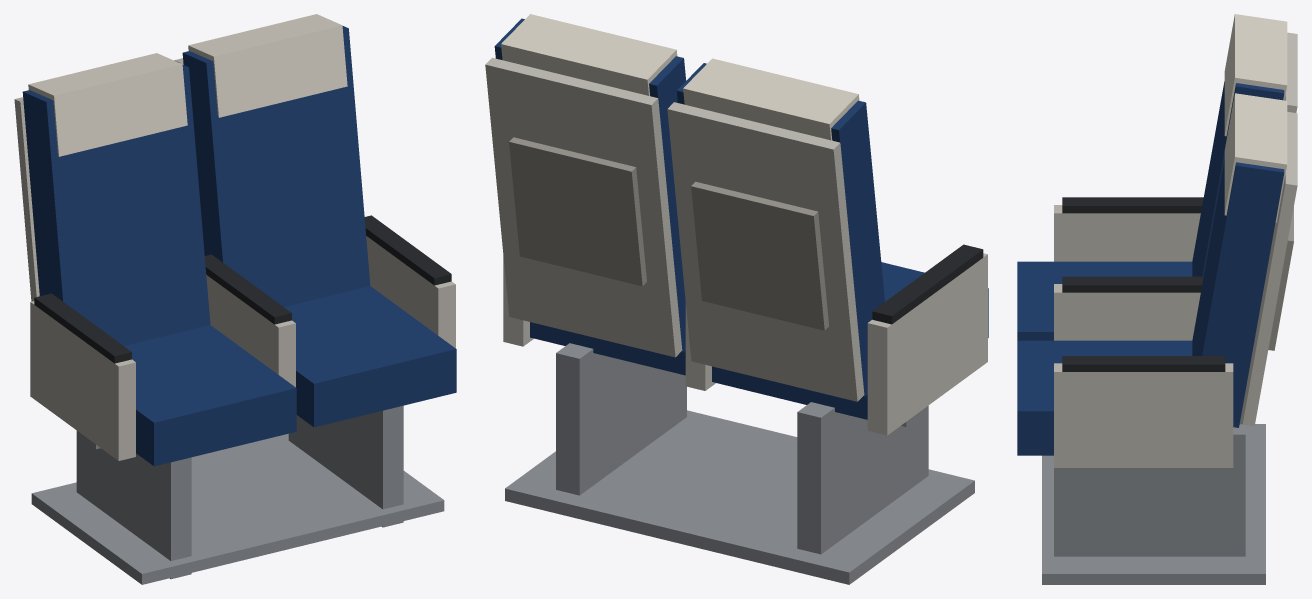
The model's file is ac_economy_pair.glb.
3 views of the same model, side by side, from view 1: azimuth 30°, elevation 25°; view 2: azimuth 150°, elevation 25°; view 3: azimuth 270°, elevation 25° (orthographic). The views are drawn at different scales.
Visible parts, largest first — view 1: ac_economy_pair; view 2: ac_economy_pair; view 3: ac_economy_pair.
Boxes of the visible parts, x1=… form: ac_economy_pair: x1=14, y1=14, x2=456, y2=584; ac_economy_pair: x1=485, y1=14, x2=988, y2=584; ac_economy_pair: x1=1017, y1=14, x2=1297, y2=584.
Size of the model in its own units: 0.97 by 1.17 by 0.6874.
